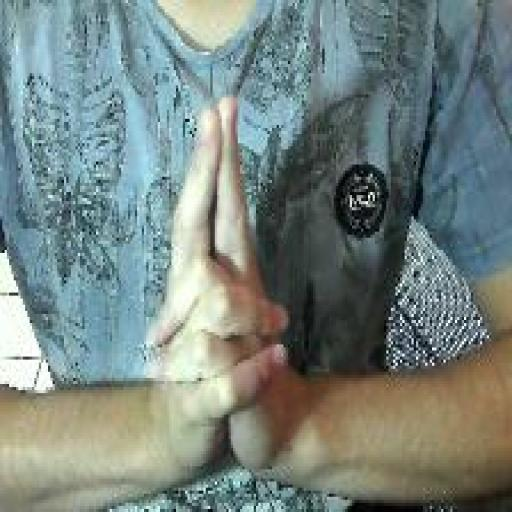Tora -tiger-: (140, 92, 292, 490)
